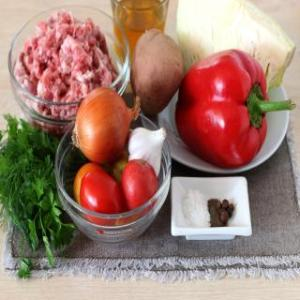bell_pepper: (178, 50, 296, 174), (171, 0, 295, 100)
garlic: (129, 121, 165, 179)
onion: (69, 81, 140, 161)
potato: (131, 27, 183, 120)
tomato: (76, 159, 120, 231)
